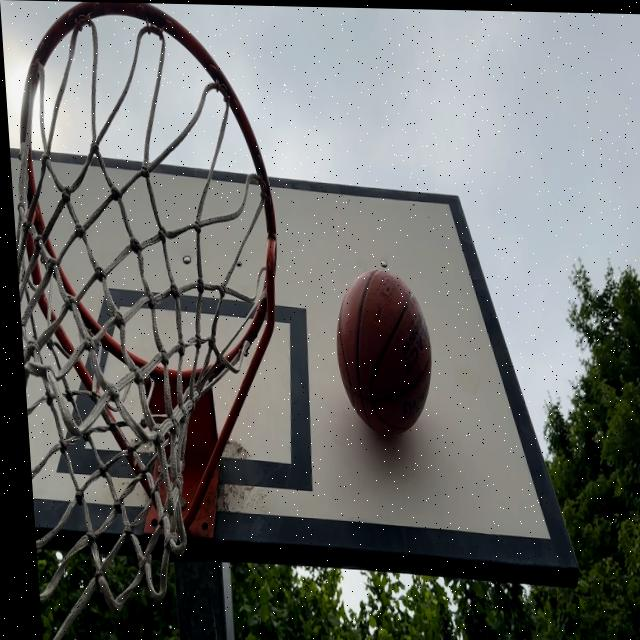rebound_hit: (331, 269, 438, 450)
